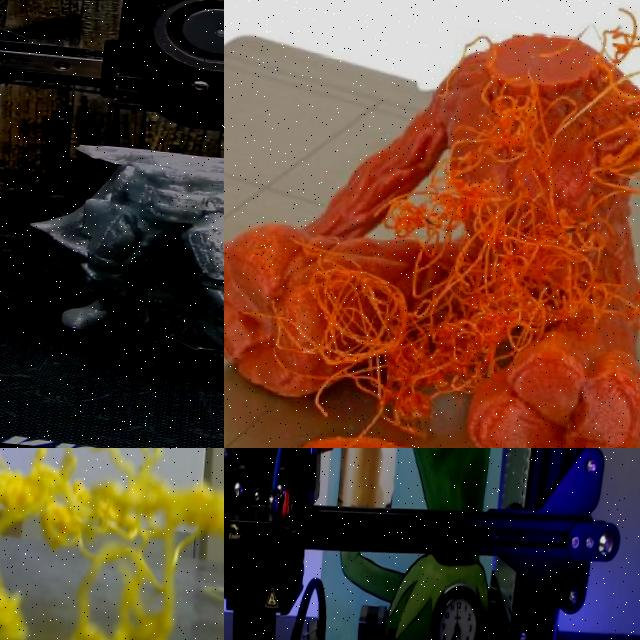spaghetti: (224, 10, 640, 448), (0, 448, 224, 640)
